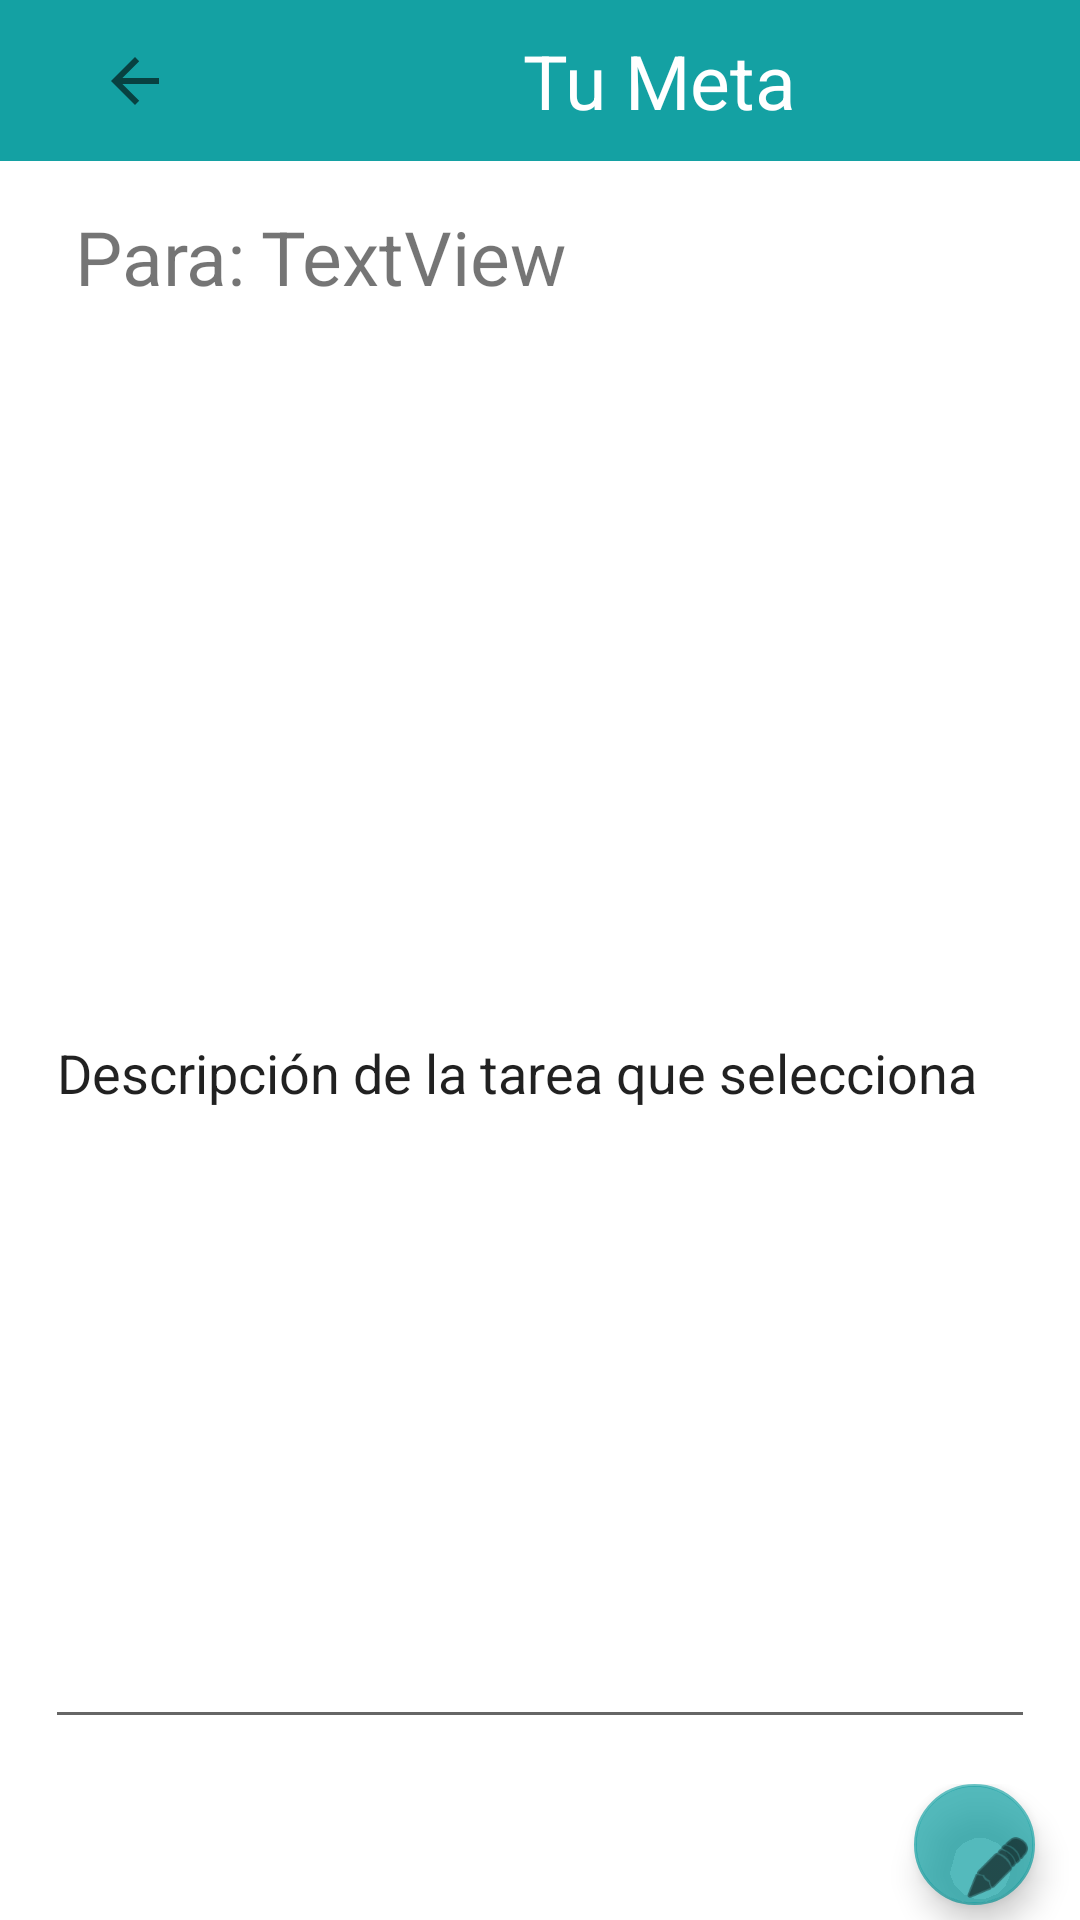

Icons on this 1080 x 1920 Android screen, each with its box as [x1, y1, x2, y2]:
edit: [914, 1784, 1035, 1905]
